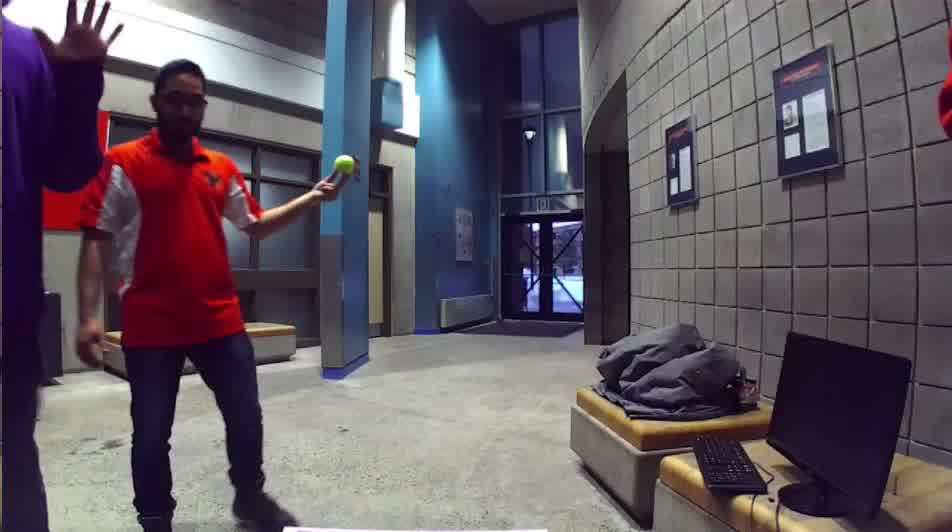tennis_ball: (333, 153, 356, 178)
